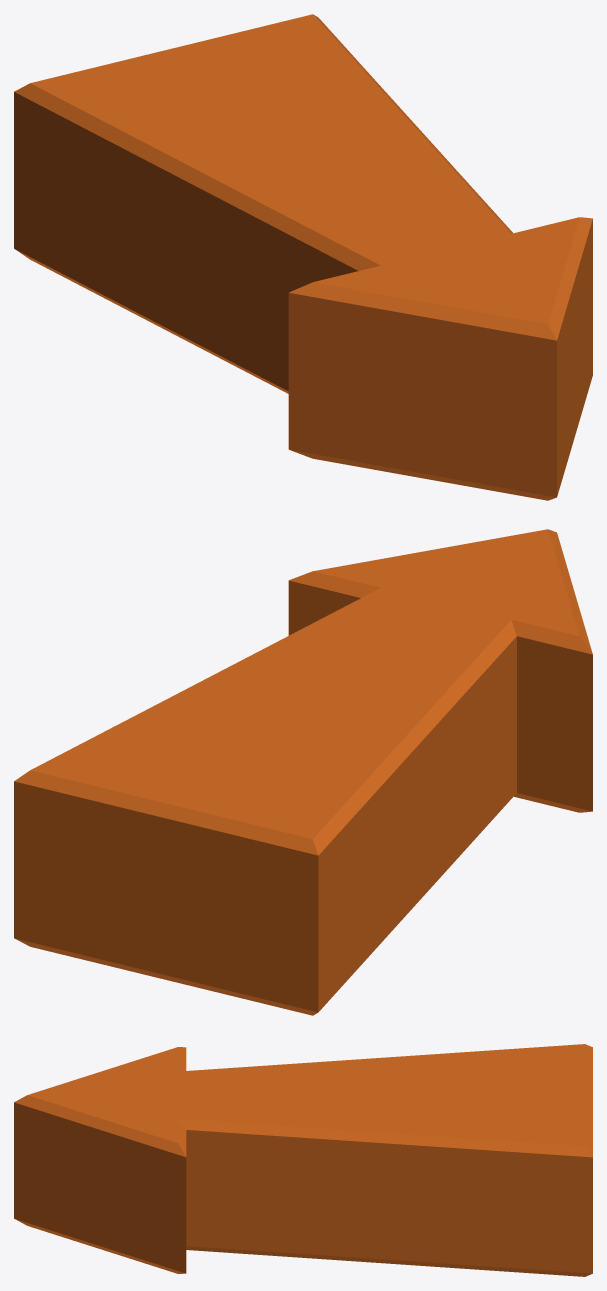
File: arrow.fbx
3 views of the same model, one above another, from view 1: azimuth 30°, elevation 25°; view 2: azimuth 150°, elevation 25°; view 3: azimuth 270°, elevation 25° (orthographic). The views are drawn at different scales.
Visible parts, largest first — view 1: Group1; view 2: Group1; view 3: Group1.
Part boxes in pixels (<box>): Group1: <box>14,14,592,500</box>; Group1: <box>14,529,592,1015</box>; Group1: <box>14,1044,592,1276</box>.
Bounding box in the file's own units: 32.5 × 18 × 72.25.
